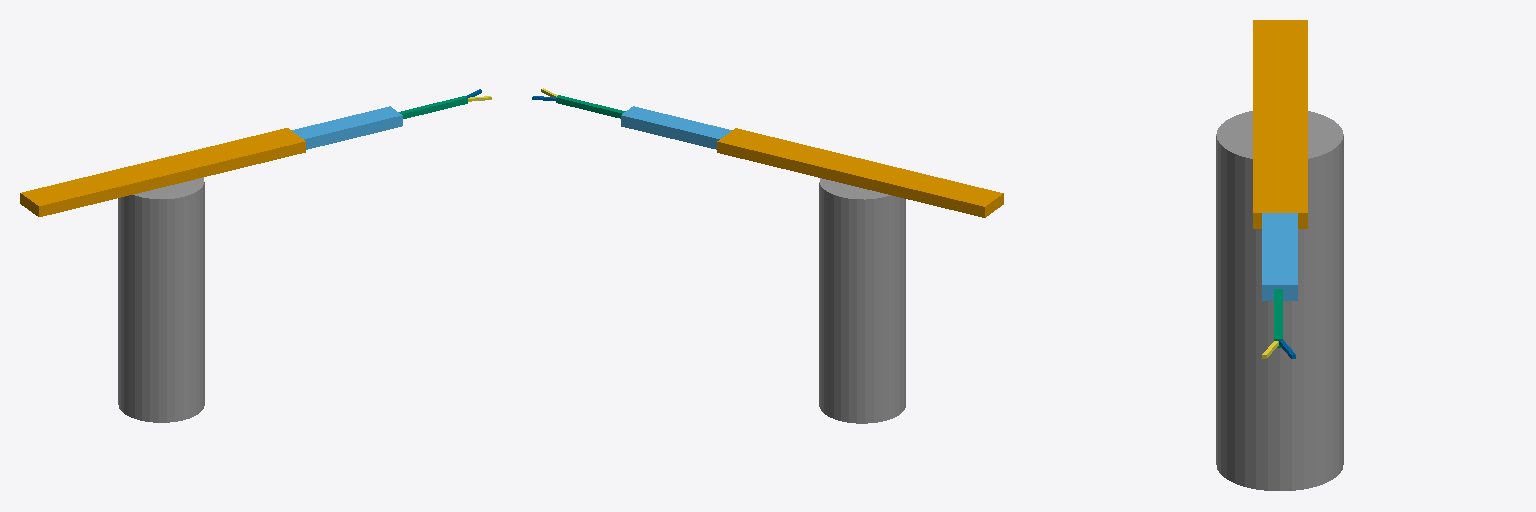
robot.urdf — test_join:
<?xml version="1.0"?>
<!-- created with Phobos 1.0.1 "Capricious Choutengan" -->
  <robot name="test_join">

    <link name="top_platform">
      <inertial>
        <origin xyz="0 0 0" rpy="0 0 0"/>
        <mass value="5.0"/>
        <inertia ixx="0.04167" ixy="0" ixz="0" iyy="2.60833" iyz="0" izz="2.64167"/>
      </inertial>
      <visual name="Cube.001">
        <origin xyz="0 0 0" rpy="0 0 0"/>
        <geometry>
          <box size="2.5 0.3 0.1"/>
        </geometry>
      </visual>
      <collision name="Cube.001">
        <origin xyz="0 0 0" rpy="0 0 0"/>
        <geometry>
          <box size="2.5 0.3 0.1"/>
        </geometry>
      </collision>
    </link>

    <link name="arm_1">
      <inertial>
        <origin xyz="0 0 0" rpy="0 0 0"/>
        <mass value="0.001"/>
        <inertia ixx="0.001" ixy="0" ixz="0" iyy="0.001" iyz="0" izz="0.001"/>
      </inertial>
      <visual name="Cube.002">
        <origin xyz="0.49284 0 0" rpy="-1.5708 0 0"/>
        <geometry>
          <box size="1.0 0.2 0.1"/>
        </geometry>
      </visual>
      <collision name="Cube.002">
        <origin xyz="0.49284 0 0" rpy="-1.5708 0 0"/>
        <geometry>
          <box size="1.0 0.2 0.1"/>
        </geometry>
      </collision>
    </link>

    <link name="arm_2">
      <inertial>
        <origin xyz="0 0 0" rpy="0 0 0"/>
        <mass value="0.001"/>
        <inertia ixx="0.001" ixy="0" ixz="0" iyy="0.001" iyz="0" izz="0.001"/>
      </inertial>
      <visual name="Cube.003">
        <origin xyz="0.32461 0 0" rpy="-1.5708 0 0"/>
        <geometry>
          <box size="0.7 0.05 0.05"/>
        </geometry>
      </visual>
      <collision name="Cube.003">
        <origin xyz="0.32461 0 0" rpy="-1.5708 0 0"/>
        <geometry>
          <box size="0.7 0.05 0.05"/>
        </geometry>
      </collision>
    </link>

    <link name="grip_1">
      <inertial>
        <origin xyz="0 0 0" rpy="0 0 0"/>
        <mass value="0.001"/>
        <inertia ixx="0.001" ixy="0" ixz="0" iyy="0.001" iyz="0" izz="0.001"/>
      </inertial>
      <visual name="Cube.004">
        <origin xyz="0.10334 0.00173 0" rpy="0 0 0"/>
        <geometry>
          <box size="0.2 0.025 0.025"/>
        </geometry>
      </visual>
      <collision name="Cube.004">
        <origin xyz="0.10334 0.00173 0" rpy="0 0 0"/>
        <geometry>
          <box size="0.2 0.025 0.025"/>
        </geometry>
       </collision>
    </link>

    <link name="grip_2">
      <inertial>
        <origin xyz="0 0 0" rpy="0 0 0"/>
        <mass value="0.001"/>
        <inertia ixx="0.001" ixy="0" ixz="0" iyy="0.001" iyz="0" izz="0.001"/>
      </inertial>
      <visual name="Cube.005">
        <origin xyz="0.11039 -0.00468 0" rpy="0 0 0"/>
        <geometry>
          <box size="0.2 0.025 0.025"/>
        </geometry>
      </visual>
       <collision name="Cube.005">
        <origin xyz="0.11039 -0.00468 0" rpy="0 0 0"/>
        <geometry>
          <box size="0.2 0.025 0.025"/>
        </geometry>
      </collision>
    </link>

<!--
    <link name="sphere">
      <inertial>
        <origin xyz="0 0 0" rpy="0 0 0"/>
        <mass value="0.001"/>
        <inertia ixx="0.001" ixy="0" ixz="0" iyy="0.001" iyz="0" izz="0.001"/>
      </inertial>
      <visual name="Sphere">
        <origin xyz="0 -0.03348 0" rpy="0 0 0"/>
        <geometry>
          <sphere radius="0.15"/>
        </geometry>
      </visual>
    </link>
-->
    <link name="root_column">
      <inertial>
        <origin xyz="0 0 0" rpy="0 0 0"/>
        <mass value="10000.0"/>
        <inertia ixx="53.14702" ixy="0" ixz="0" iyy="14.61586" iyz="0" izz="616.66663"/>
      </inertial>
      <visual name="Cube">
        <origin xyz="0 0 0" rpy="0 0 0"/>
        <geometry>
          <cylinder radius="0.35" length="2.0"/>
        </geometry>
        <material name="Material"/>
      </visual>
      <collision name="Cube">
        <origin xyz="0 0 0" rpy="0 0 0"/>
        <geometry>
          <cylinder radius="0.35" length="2.0"/>
        </geometry>
      </collision>
    </link>

    <joint name="joint_root_column" type="continuous">
      <origin xyz="0.01884 0.00421 1.07005" rpy="0 0 0"/>
      <parent link="root_column"/>
      <child link="top_platform"/>
      <axis xyz="0 0 1.0"/>
      <limit effort="0" velocity="0"/>
    </joint>

    <joint name="joint_top_platform_arm1" type="revolute">
      <origin xyz="1.18826 -0.00436 -0.00316" rpy="1.5708 0 0"/>
      <parent link="top_platform"/>
      <child link="arm_1"/>
      <axis xyz="0 0 1.0"/>
      <limit lower="-3.1" upper="3.1" effort="0" velocity="0"/>
    </joint>

    <joint name="joint_arm1_arm2" type="revolute">
      <origin xyz="0.97252 -0.00091 0.00602" rpy="0 0 0"/>
      <parent link="arm_1"/>
      <child link="arm_2"/>
      <axis xyz="0 0 1.0"/>
      <limit lower="-2.0" upper="2.0" effort="0" velocity="0"/>
    </joint>

    <joint name="joint_arm2_grip1" type="revolute">
      <origin xyz="0.66749 0.00404 0.01136" rpy="-1.5708 -0.34907 0"/>
      <parent link="arm_2"/>
      <child link="grip_1"/>
      <axis xyz="0 0 1.0"/>
      <limit lower="-1.0" upper="1.0" effort="0" velocity="0"/>
    </joint>

    <joint name="joint_arm2_grip2" type="revolute">
      <origin xyz="0.6569 0.0025 -0.01508" rpy="-1.5708 0.34907 0"/>
      <parent link="arm_2"/>
      <child link="grip_2"/>
      <axis xyz="0 0 1.0"/>
      <limit lower="-1.0" upper="1.0" effort="0" velocity="0"/>
    </joint>

<!--
    <joint name="joint_arm2_sphere" type="floating">
      <origin xyz="0.03367 0.00604 -0.03307" rpy="-1.5708 0 0"/>
      <parent link="arm_2"/>
      <child link="sphere"/>
    </joint>
-->
    <material name="Material">
      <color rgba="0.64 0.64 0.64 1.0"/>
    </material>

  </robot>

--- What the picture shows (computed from the rendered views, not written in the file) ---
3 views of the same robot in one strip: view 1: azimuth 30°, elevation 25°; view 2: azimuth 150°, elevation 25°; view 3: azimuth 270°, elevation 25° (orthographic).
Model test_join with 6 links and 5 joints (4 revolute, 1 continuous), rooted at root_column, posed every joint at zero.
Links seen in each view (by area): view 1: root_column, top_platform, arm_1, arm_2; view 2: root_column, top_platform, arm_1, arm_2; view 3: root_column, top_platform, arm_1.
Boxes of the visible links, x1=… form: root_column: x1=118, y1=177, x2=204, y2=422; top_platform: x1=20, y1=128, x2=305, y2=216; arm_1: x1=291, y1=106, x2=402, y2=149; arm_2: x1=399, y1=96, x2=467, y2=118; root_column: x1=819, y1=178, x2=905, y2=423; top_platform: x1=717, y1=128, x2=1003, y2=217; arm_1: x1=621, y1=106, x2=731, y2=149; arm_2: x1=556, y1=95, x2=625, y2=118; root_column: x1=1216, y1=111, x2=1343, y2=490; top_platform: x1=1253, y1=20, x2=1307, y2=228; arm_1: x1=1262, y1=213, x2=1297, y2=300.
Bounding box of the posed robot: 4.27 × 0.7 × 2.12 m (x, y, z).
Geometry: primitives only (box / cylinder / sphere), no mesh files.